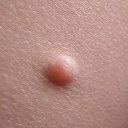Carcinoma: (44, 51, 84, 88)
